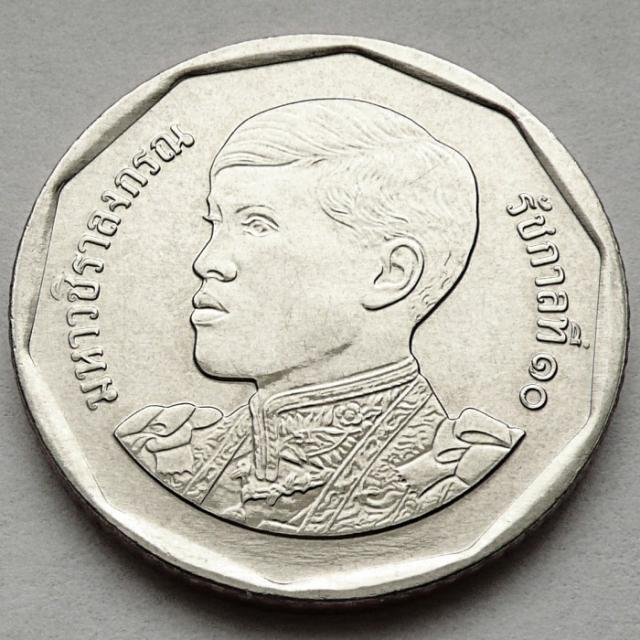5 Bath: (1, 32, 638, 625)
